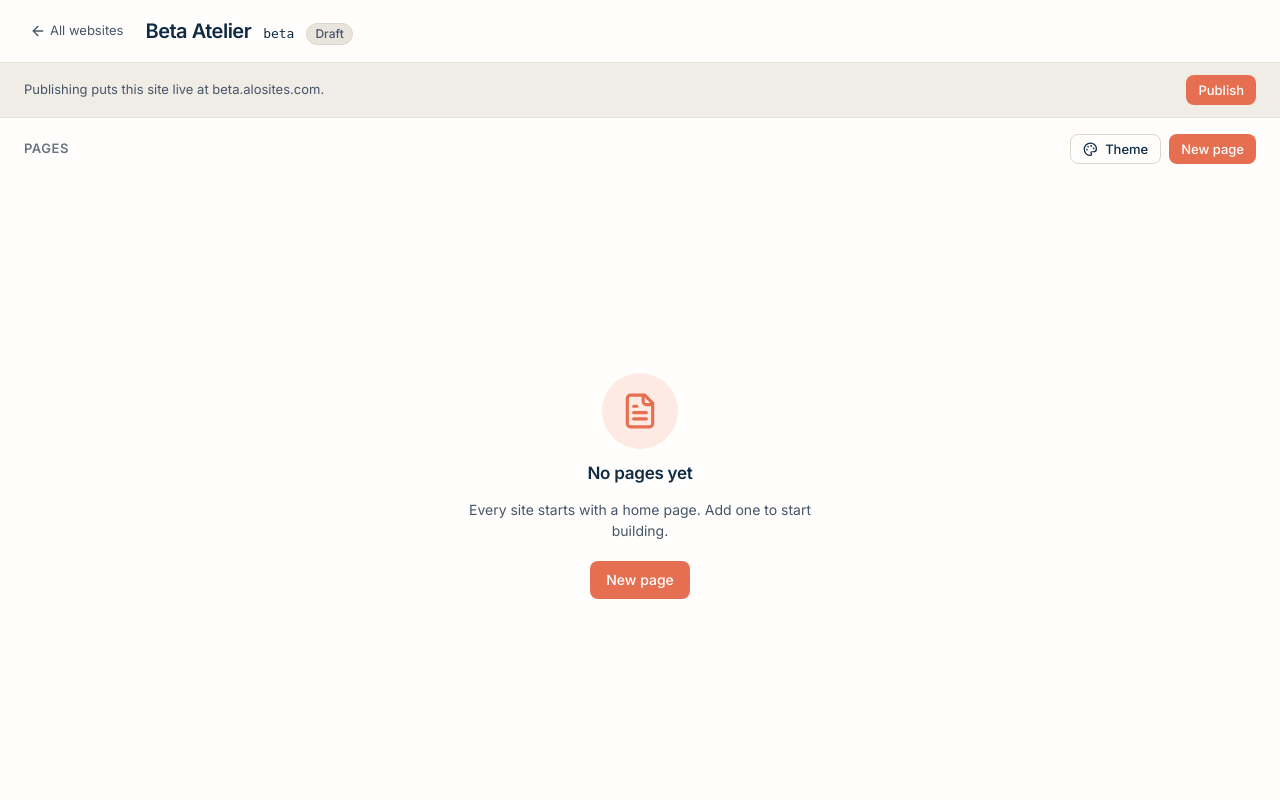
Test: publishing a site › a refused publish shows the server's own sentence and stays draft
Click the button "Publish" at (1221, 90), box [1186,75,1256,105]
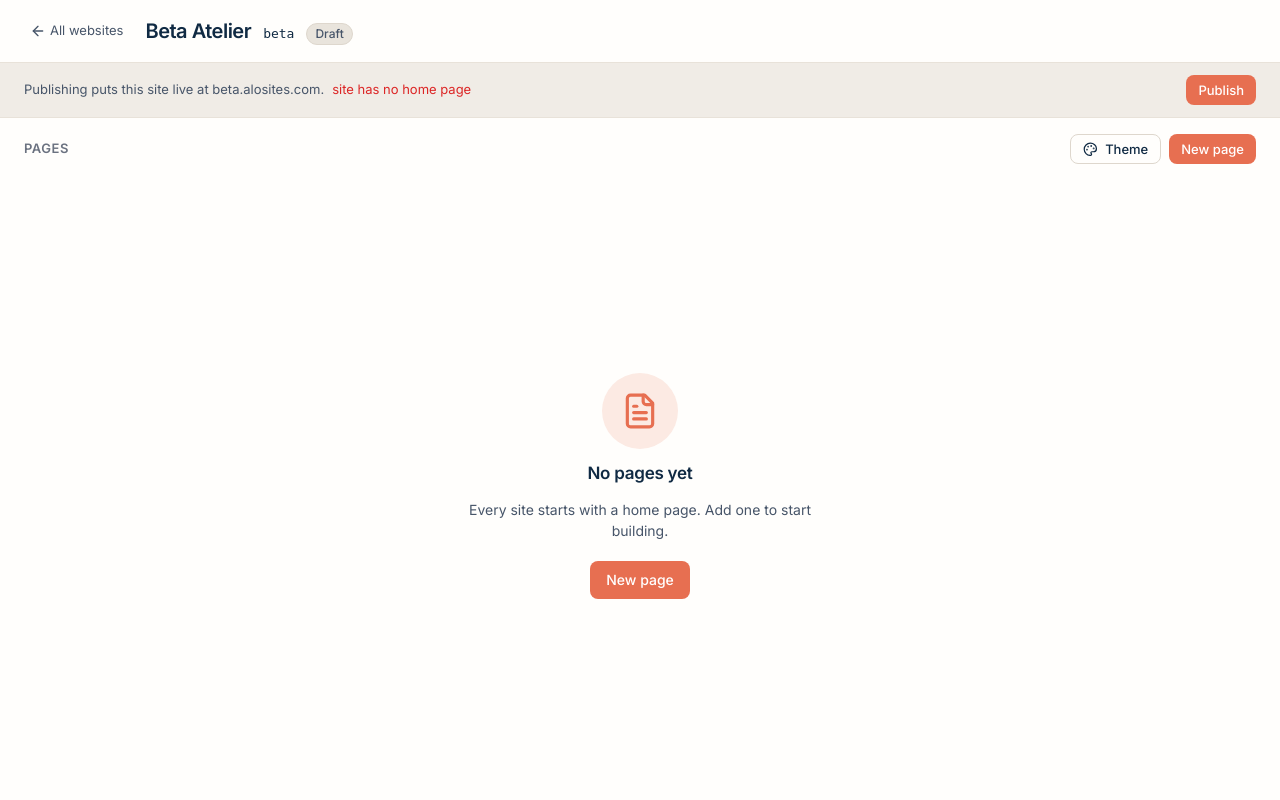
Expected: the text "Draft" is shown, [306,23,353,45]
Expected: the text "site has no home page" is shown, [332,80,471,100]
